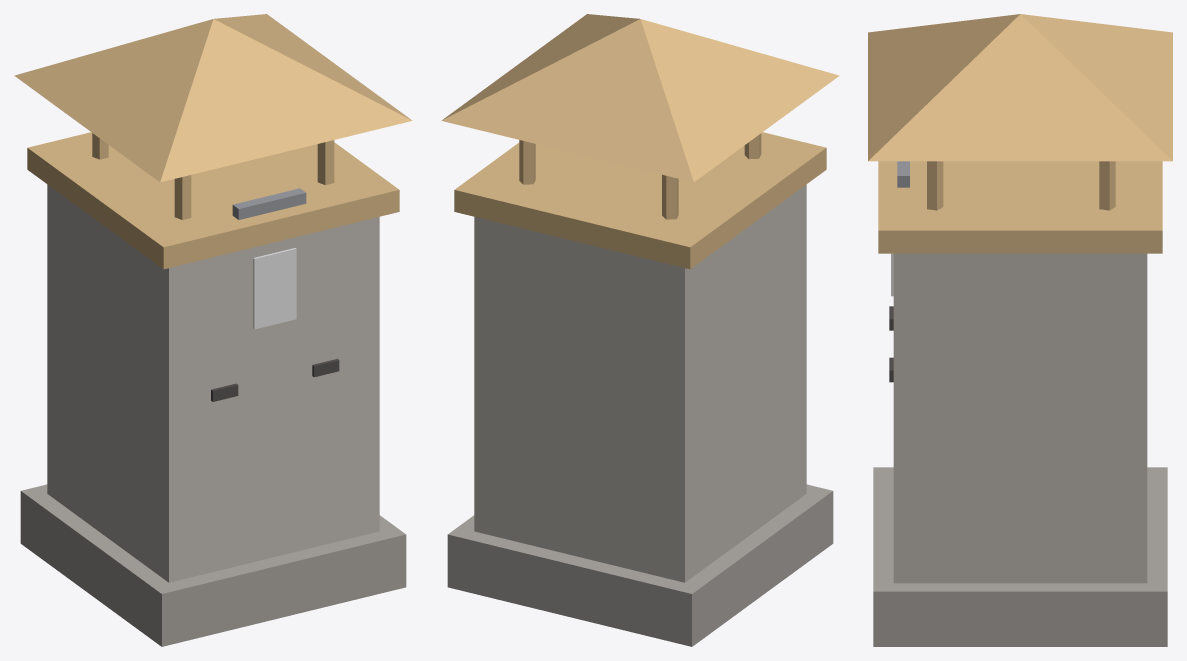
3 views of the same model, side by side, from view 1: azimuth 30°, elevation 25°; view 2: azimuth 150°, elevation 25°; view 3: azimuth 270°, elevation 25° (orthographic). The views are drawn at different scales.
Parts seen in each view (by area): view 1: body; view 2: body; view 3: body.
Boxes of the visible parts, box(x1,y1,x2,y2) form: body: box(14, 14, 412, 646); body: box(441, 14, 839, 646); body: box(868, 14, 1172, 646).
Size of the model in its own units: 6 by 12.4 by 6.
